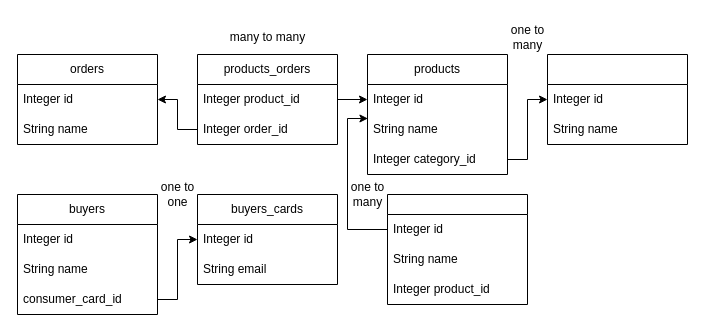
Some shapes in this 705 by 332 pixel diagram are drawn without their labels. Here are the shapes that lost their labels. From the top down, the box of each, then its label:
(546, 54, 688, 144): categories
(386, 194, 528, 304): manufacturers
